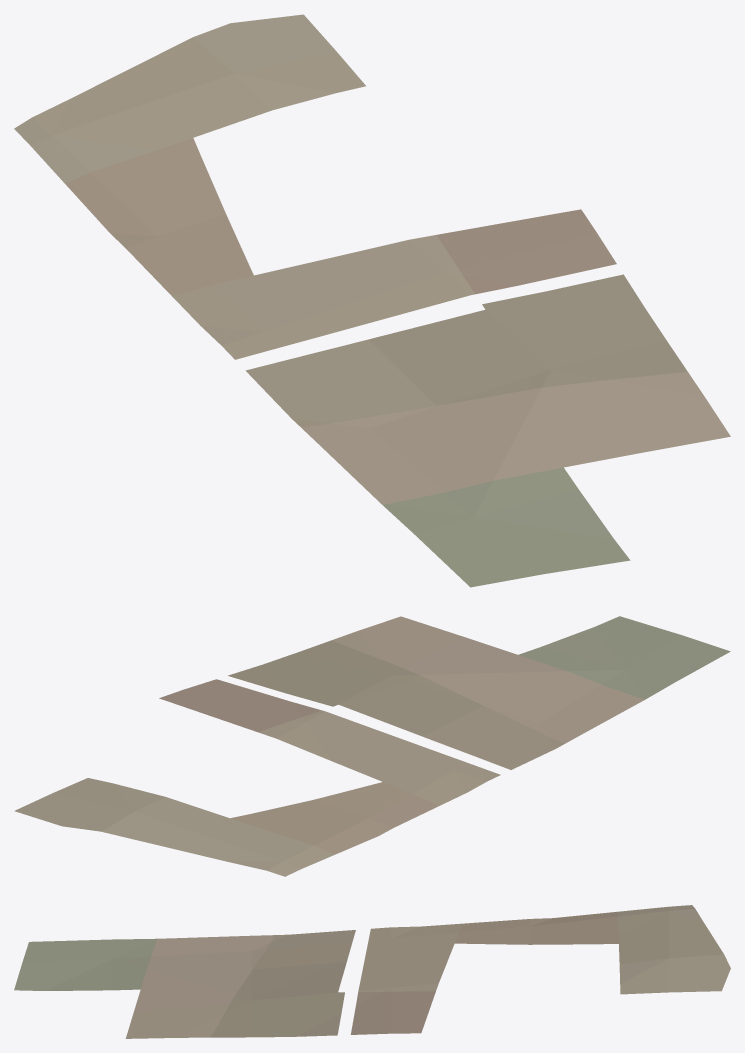
The model's file is farm_9_4_soil.glb.
3 renders of one model, top to bottom at view 1: azimuth 30°, elevation 25°; view 2: azimuth 150°, elevation 25°; view 3: azimuth 270°, elevation 25°, orthographic. The views are drawn at different scales.
Parts seen in each view (by area): view 1: geometry_0; view 2: geometry_0; view 3: geometry_0.
Boxes of the visible parts, x1,y1,x2,y2 form: geometry_0: (14,14,730,587); geometry_0: (14,616,730,876); geometry_0: (14,905,730,1038).
Size of the model in its own units: 179 by 43.42 by 412.
